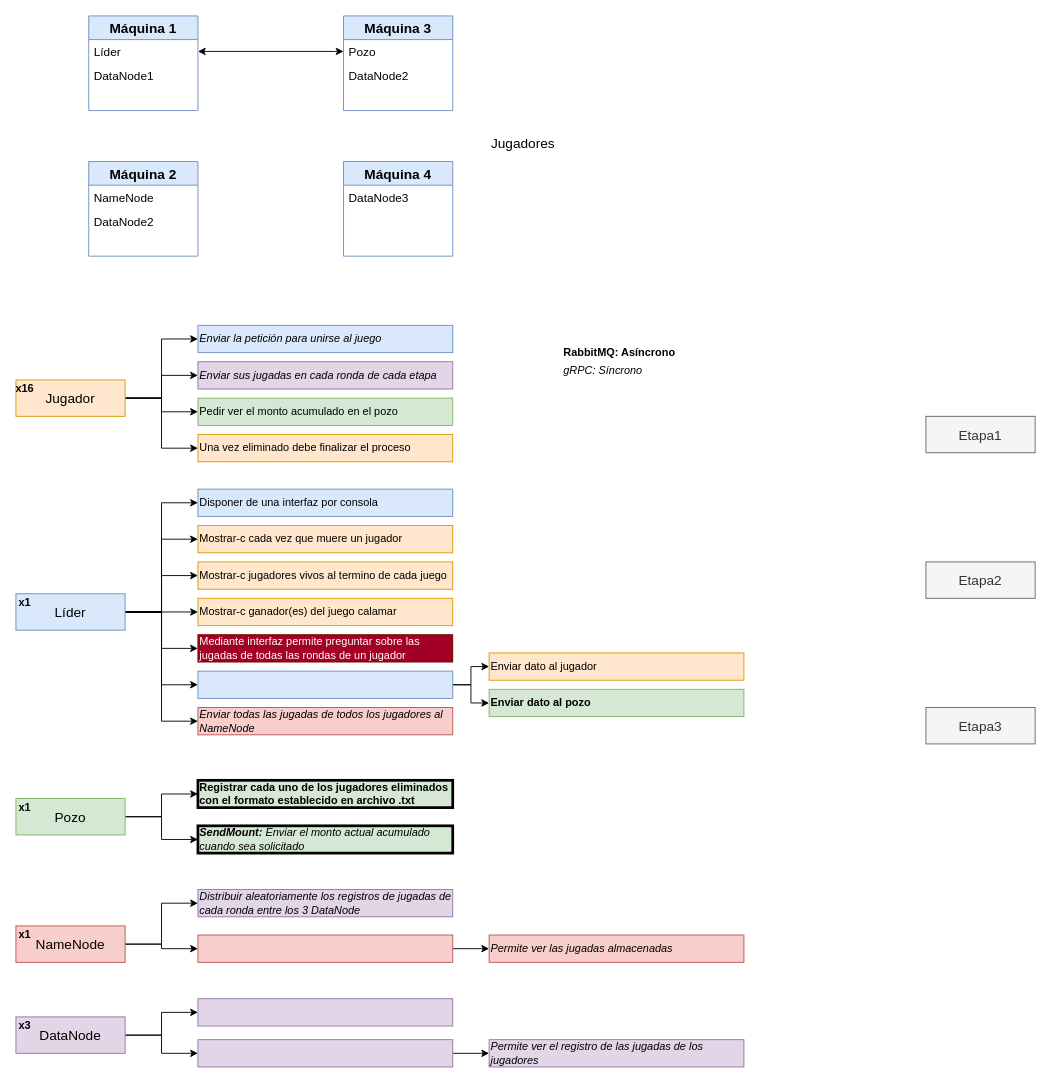
This 1051x1083 diagram has some shape labels left out. The centre of each missing label's shape, as x and y in pixels:
Crear un archivo .txt con el nro del jugador y ronda: (x=325, y=1012)
Registrar en cada archivo .txt la jugada: (x=325, y=1053)
Registrar en un archivo .txt las jugadas de cada jugador con el ip del DataNode: (x=325, y=948)
Verificar si un jugador es eliminado: (x=325, y=684)
